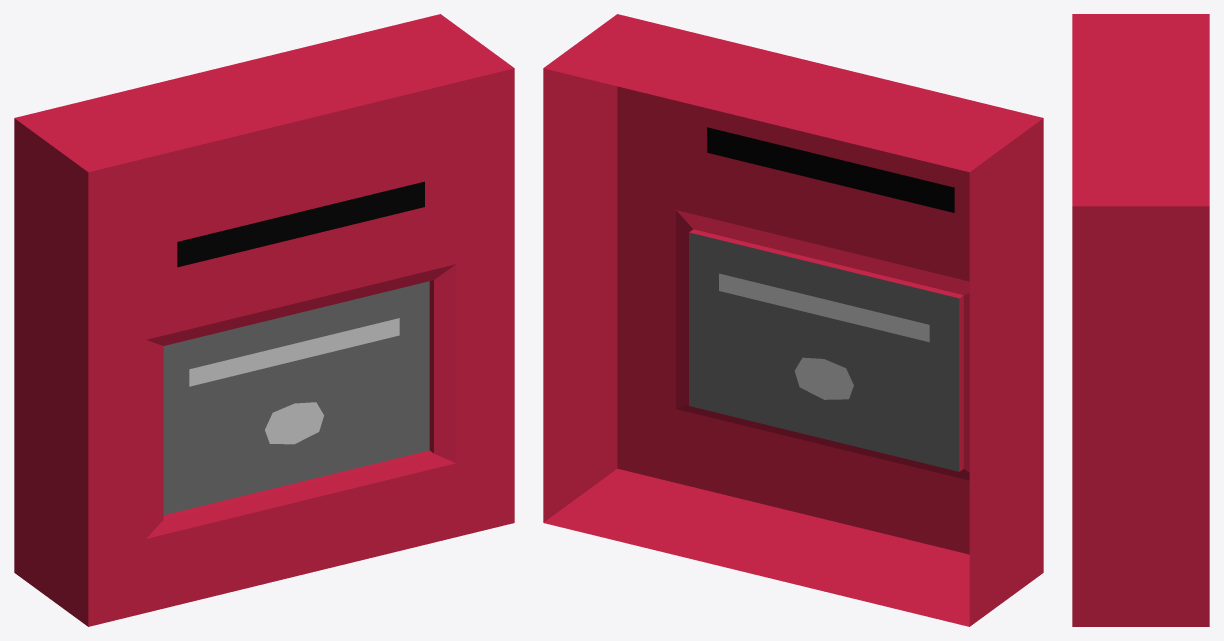
The model's file is FireAlarm.fbx.
3 views of the same model, side by side, from view 1: azimuth 30°, elevation 25°; view 2: azimuth 150°, elevation 25°; view 3: azimuth 270°, elevation 25° (orthographic). The views are drawn at different scales.
Parts seen in each view (by area): view 1: FireAlarm; view 2: FireAlarm; view 3: FireAlarm.
Boxes of the visible parts, box(x1,y1,x2,y2) form: FireAlarm: box(14, 14, 514, 626); FireAlarm: box(543, 14, 1043, 626); FireAlarm: box(1072, 14, 1209, 626).
Bounding box in the file's own units: 0.2648 × 0.2698 × 0.0798.
